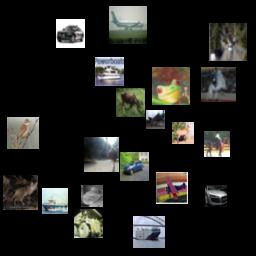airplane: (109, 6, 147, 44), (156, 172, 188, 204), (146, 110, 165, 129)
automobile: (56, 19, 85, 48), (120, 152, 149, 181), (205, 185, 227, 207)
bird: (84, 137, 119, 172), (7, 117, 39, 149)
cat: (3, 175, 38, 210), (81, 185, 103, 207)
deer: (209, 23, 247, 61), (116, 88, 145, 117), (172, 122, 194, 144)
frog: (152, 67, 190, 105)
ship: (133, 216, 165, 248), (95, 57, 124, 86), (42, 188, 68, 214)
truck: (74, 209, 103, 238)
